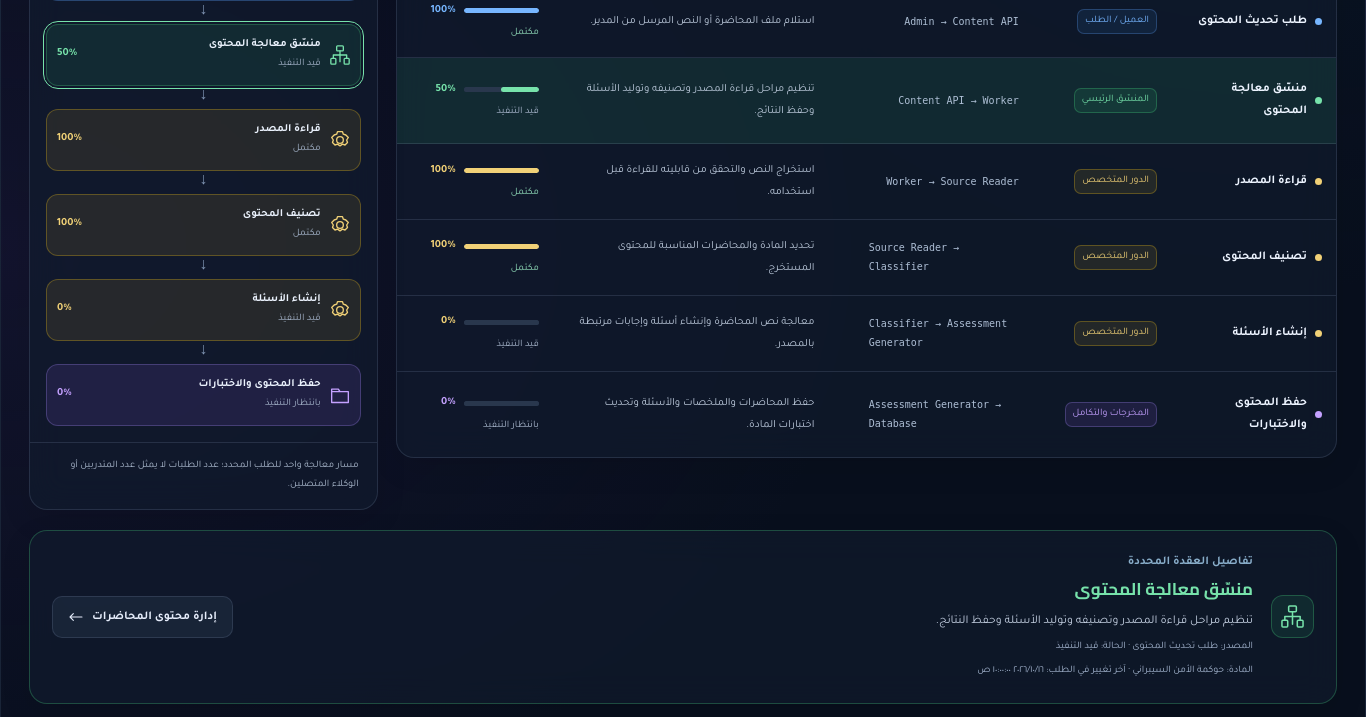
WorkflowDashboard › uses the protected no-store admin API and displays the actual tasks and routes
(page scrolled)
Expected: the text "معالجة نص المحاضرة وإنشاء أسئلة وإجابات مرتبطة بالمصدر." is shown, 553,296 -> 828,372
Click the button "إنشاء الأسئلة" at (1254, 334), box 1185,318 -> 1322,349
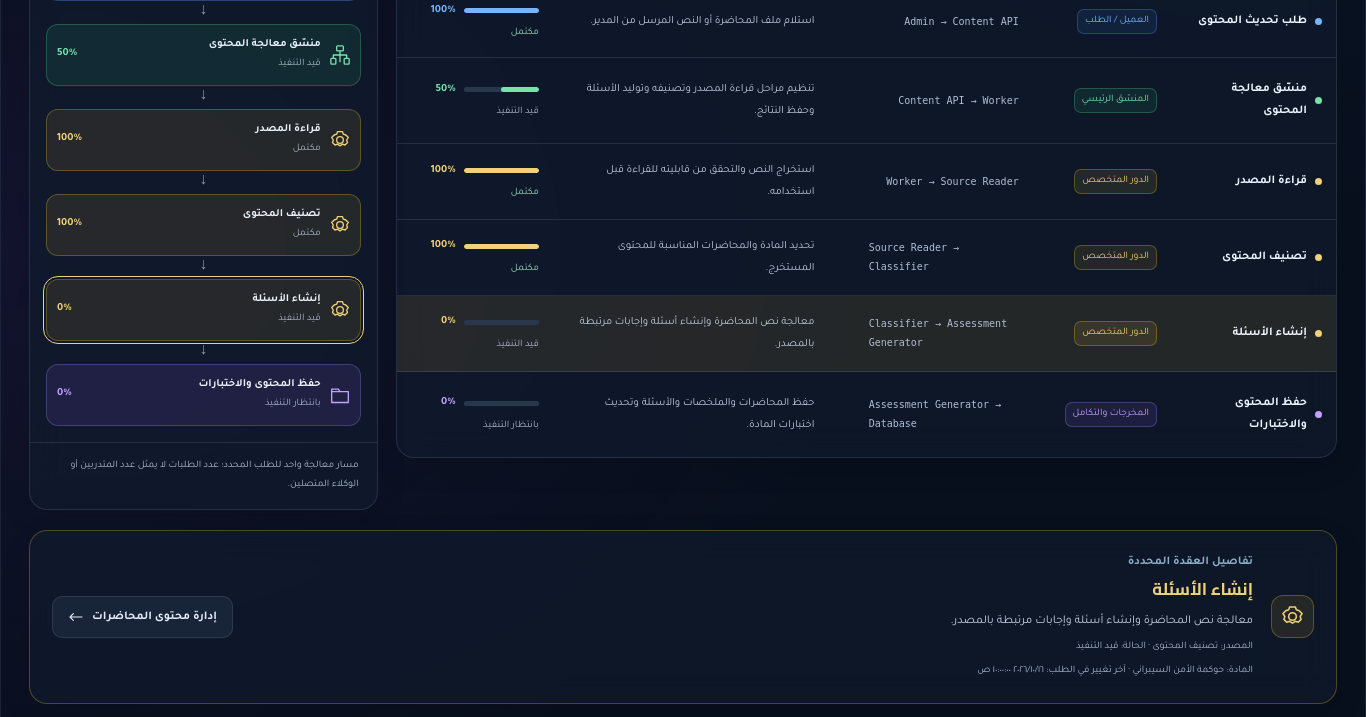
Expected: the heading "إنشاء الأسئلة" is shown, 1152,573 -> 1253,605
